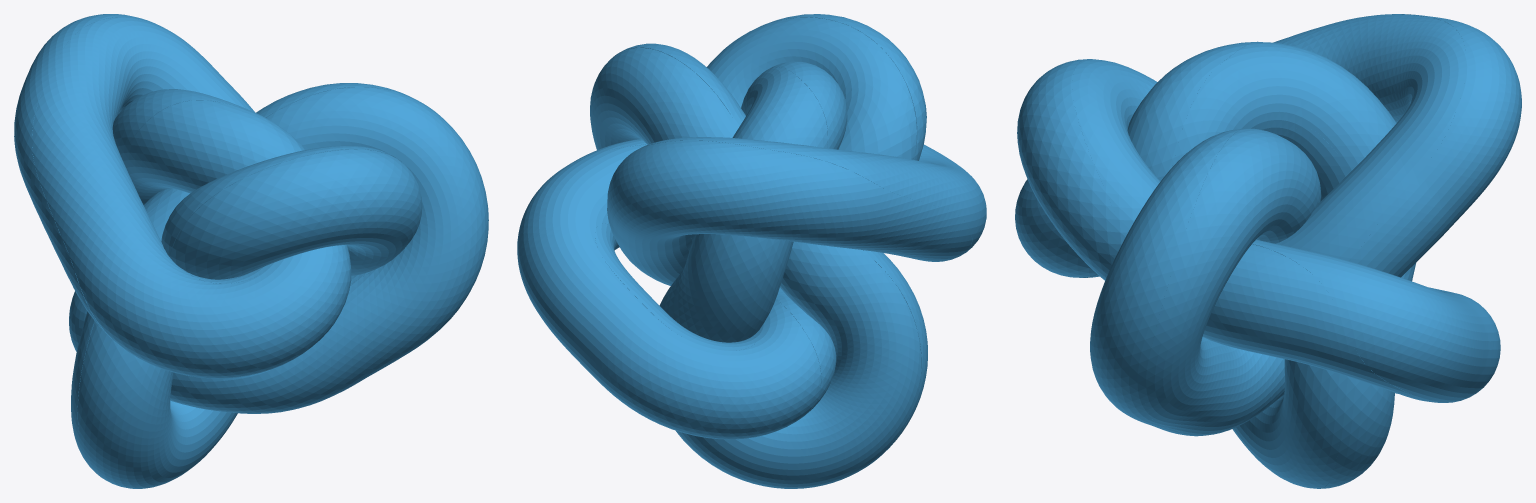
The model's file is gem_422832558.gltf.
3 views of the same model, side by side, from view 1: azimuth 30°, elevation 25°; view 2: azimuth 150°, elevation 25°; view 3: azimuth 270°, elevation 25° (orthographic). The views are drawn at different scales.
Size of the model in its own units: 1.29 by 1.27 by 1.31.
